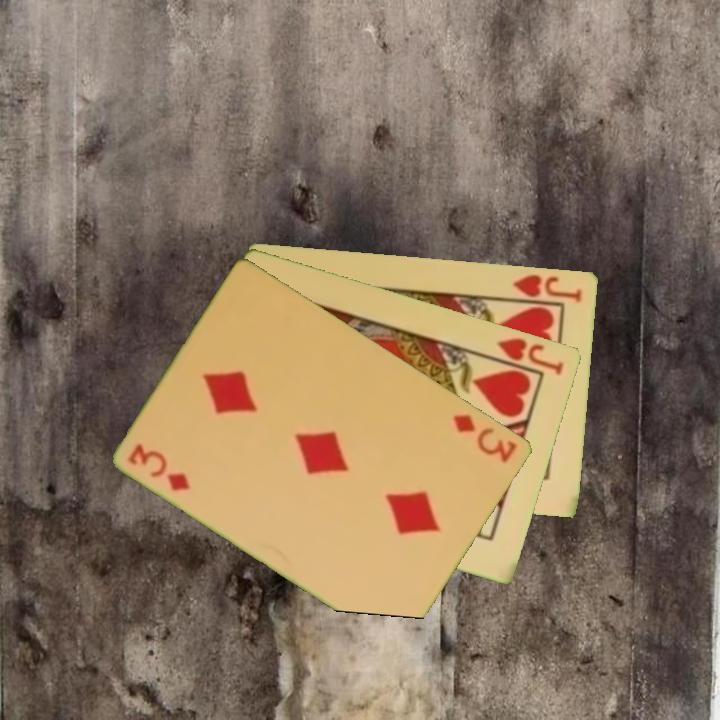3d: (450, 410, 521, 465), (125, 439, 194, 494)
Jh: (493, 334, 567, 378), (510, 270, 585, 305)
